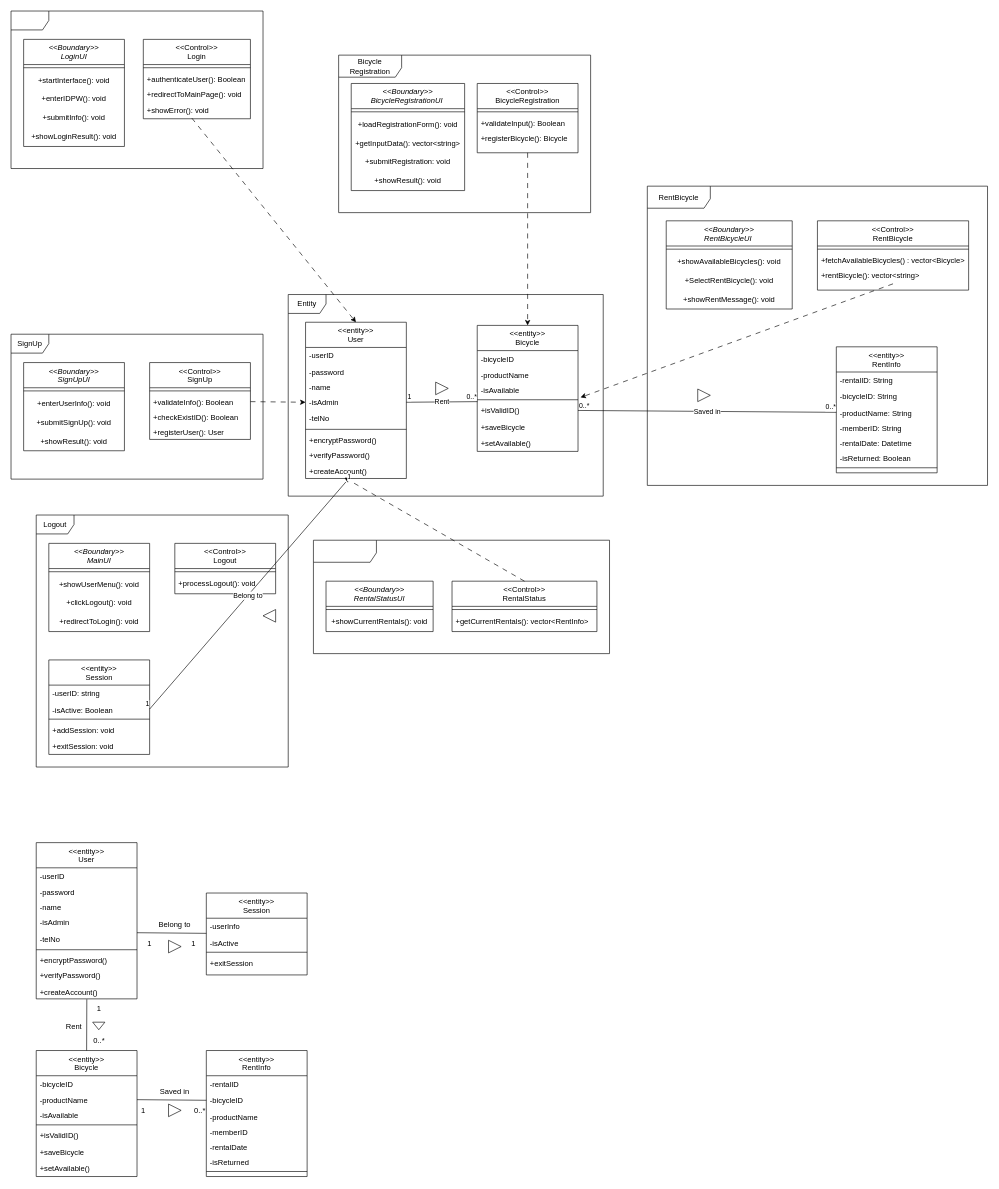
This 999x1189 diagram has some shape labels left out. The centre of each missing label's shape, as x and y in pixels:
"Login" belongs at (x=136, y=89).
"RentalStatus" belongs at (x=461, y=597).
